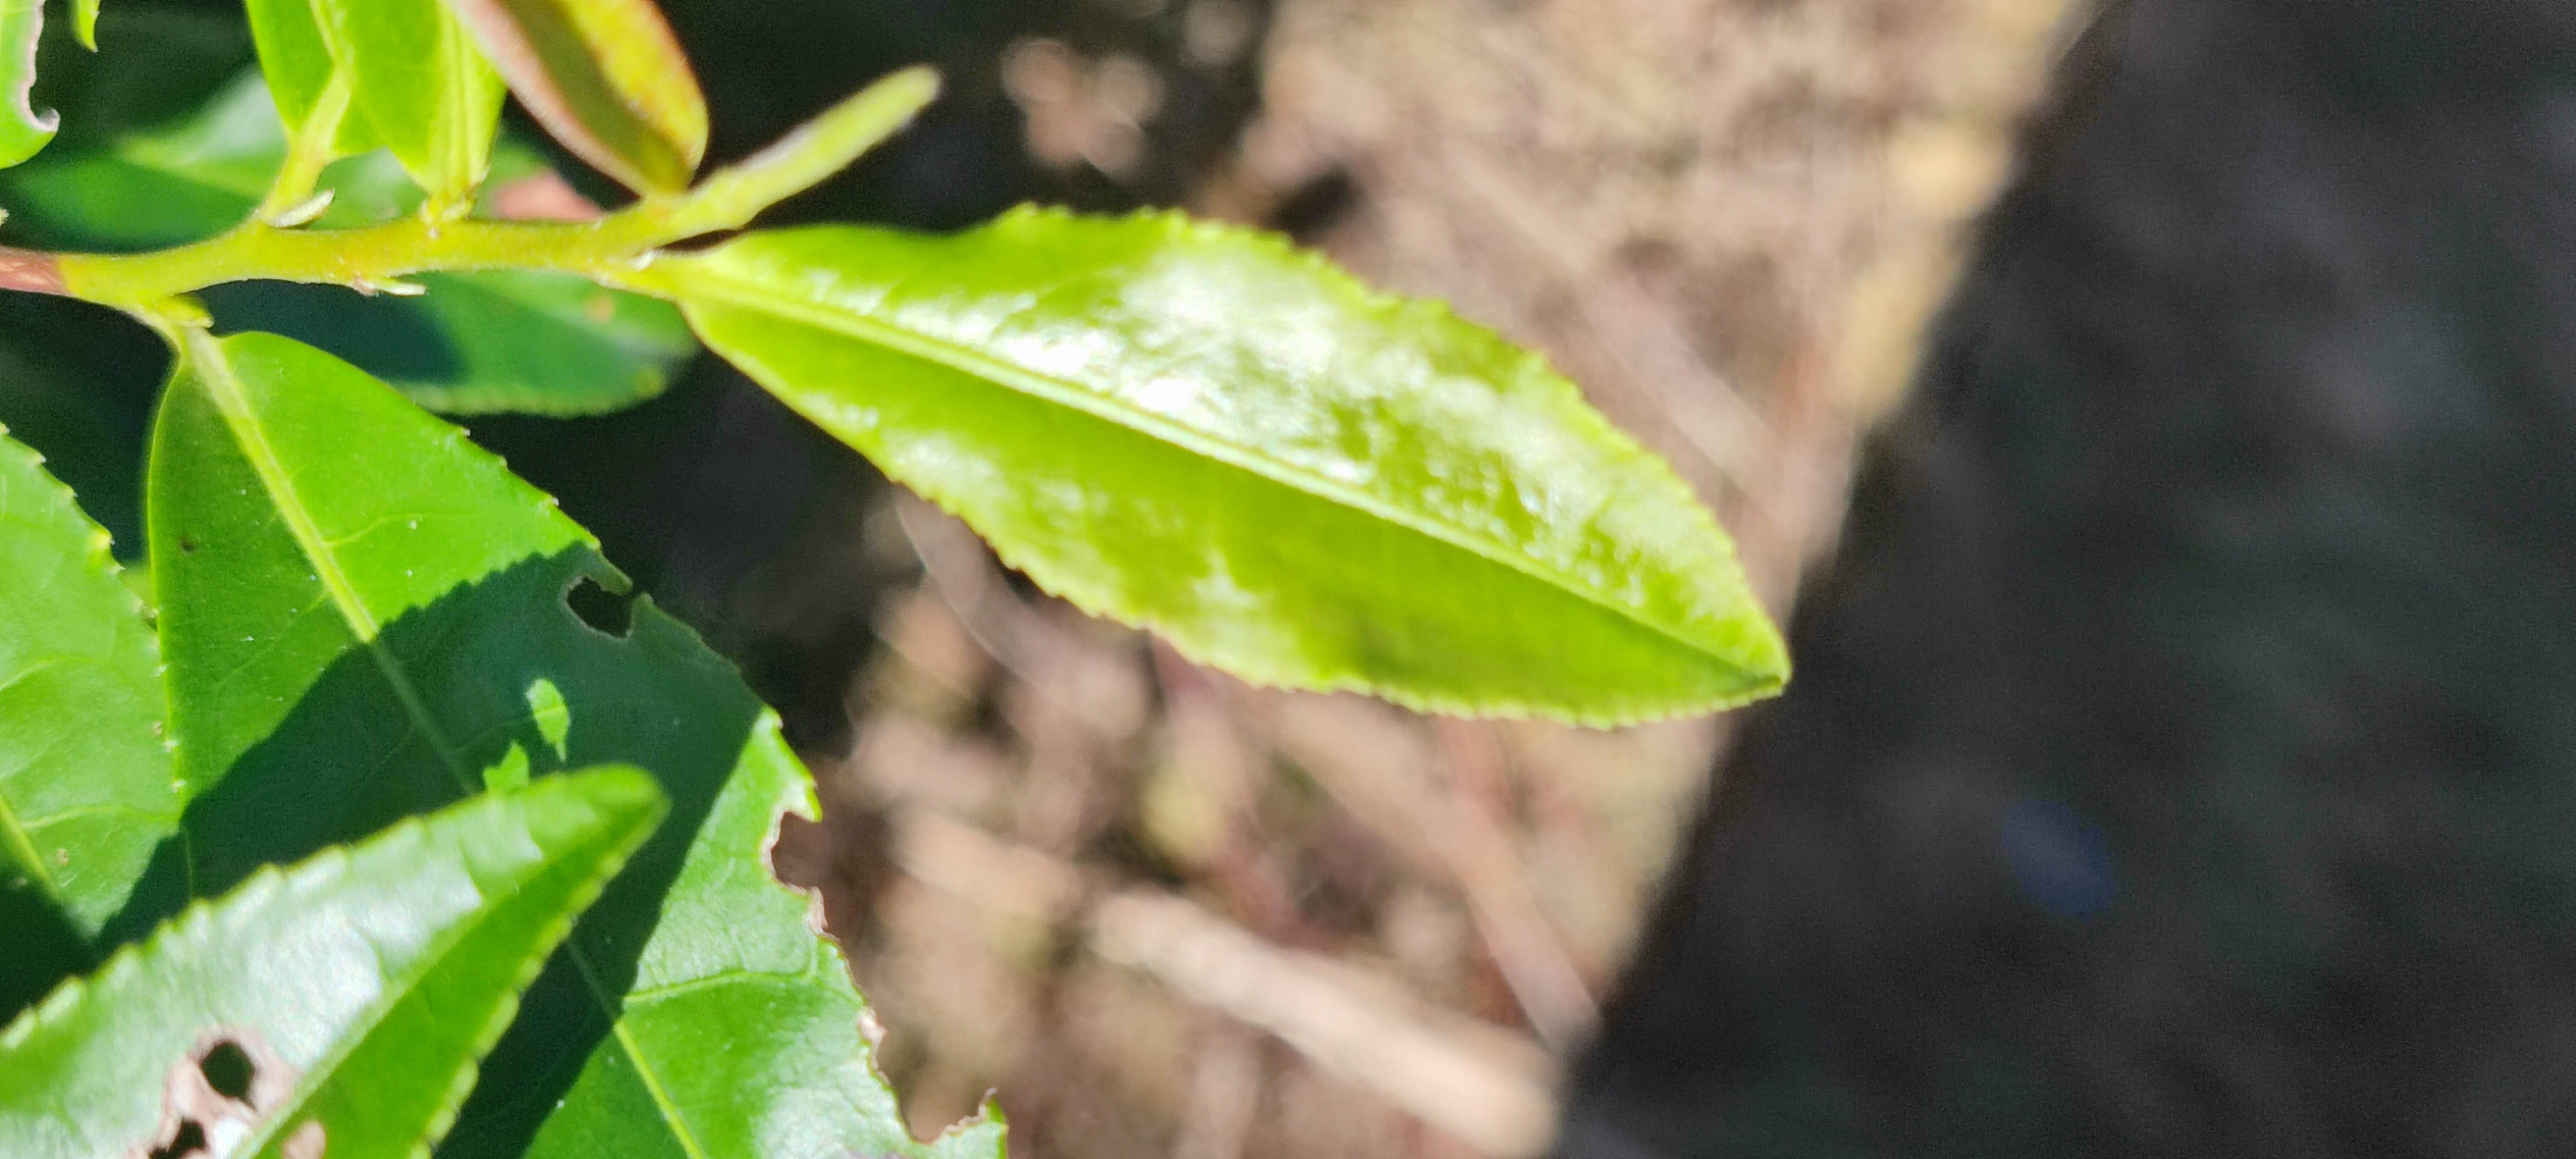chihuo_high: (143, 327, 1015, 1159), (0, 755, 677, 1154)
healthy: (685, 199, 1796, 731)
tanju_low: (458, 3, 713, 197)
